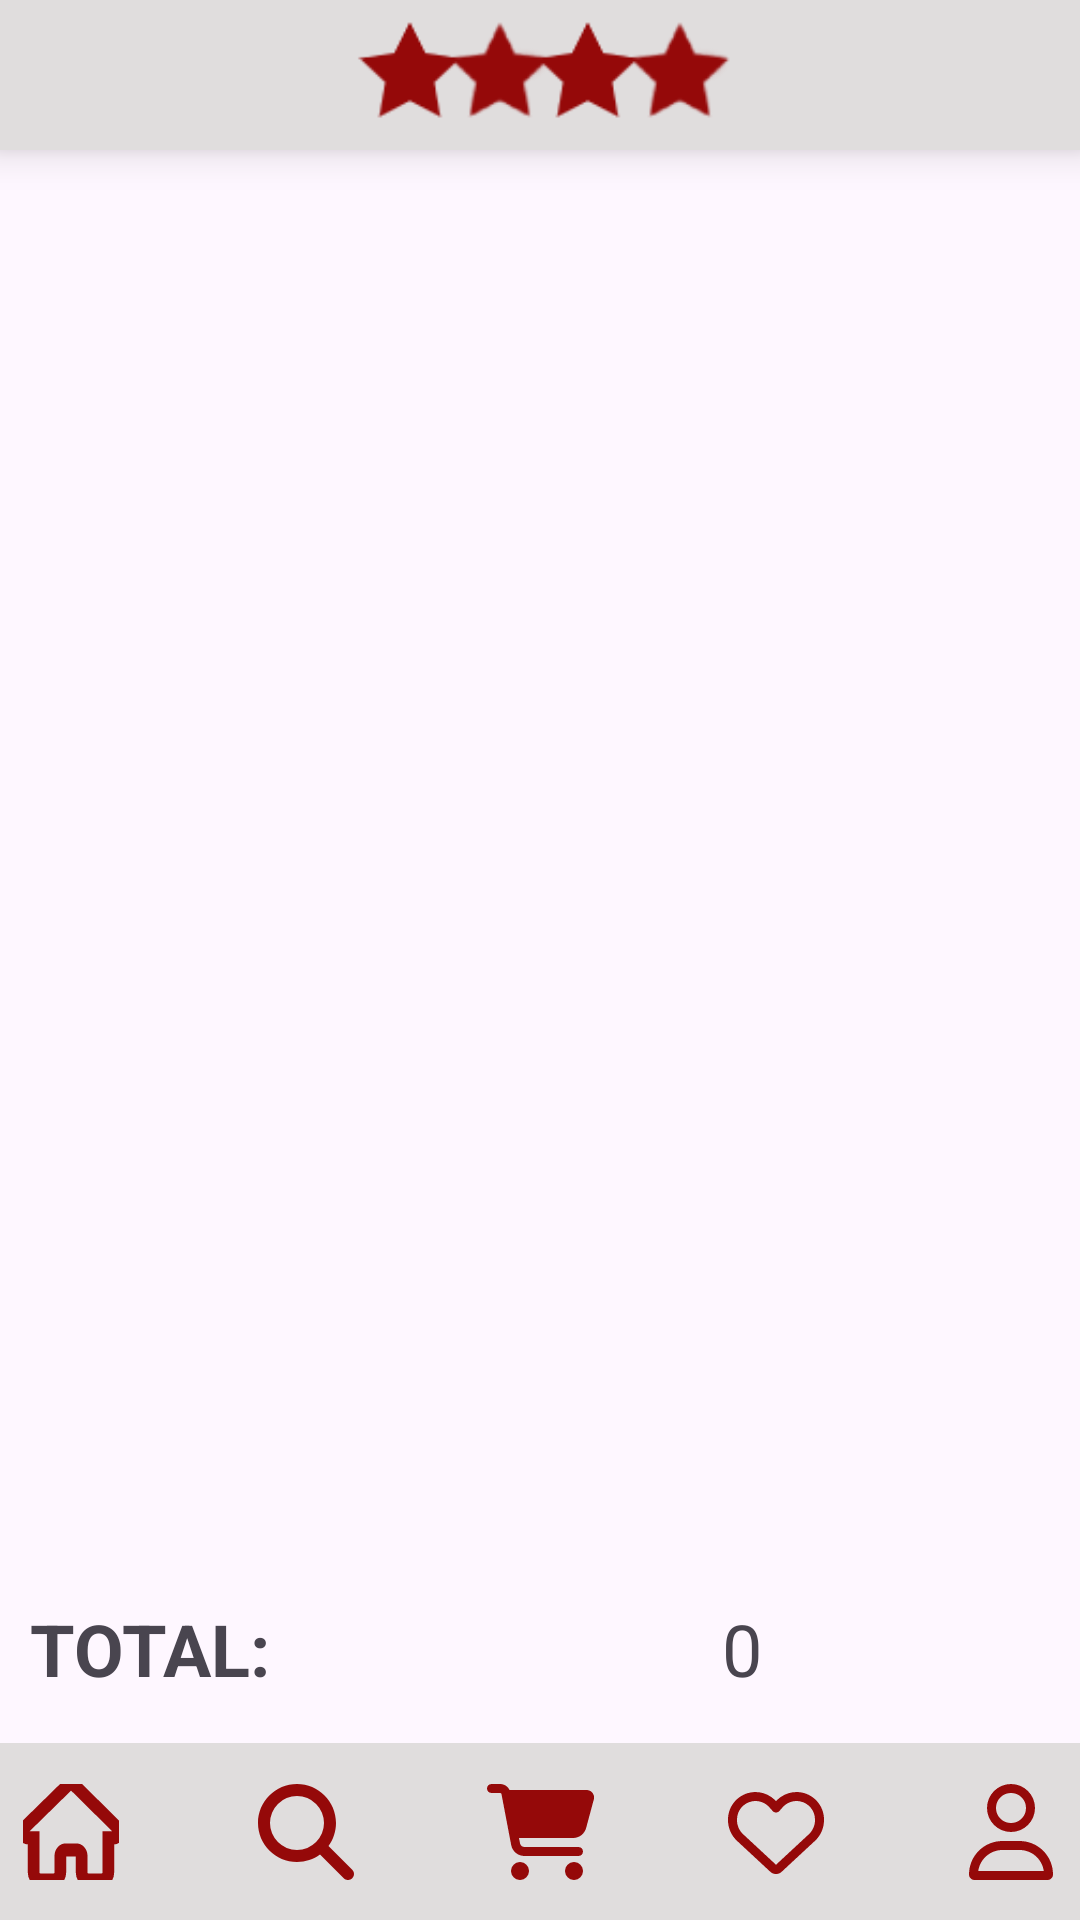

Point at icon controls on the screen. Image size 1080px×1920px, points as point (x, y).
cart: point (540, 1832)
heart: point (776, 1833)
search button: point (306, 1832)
